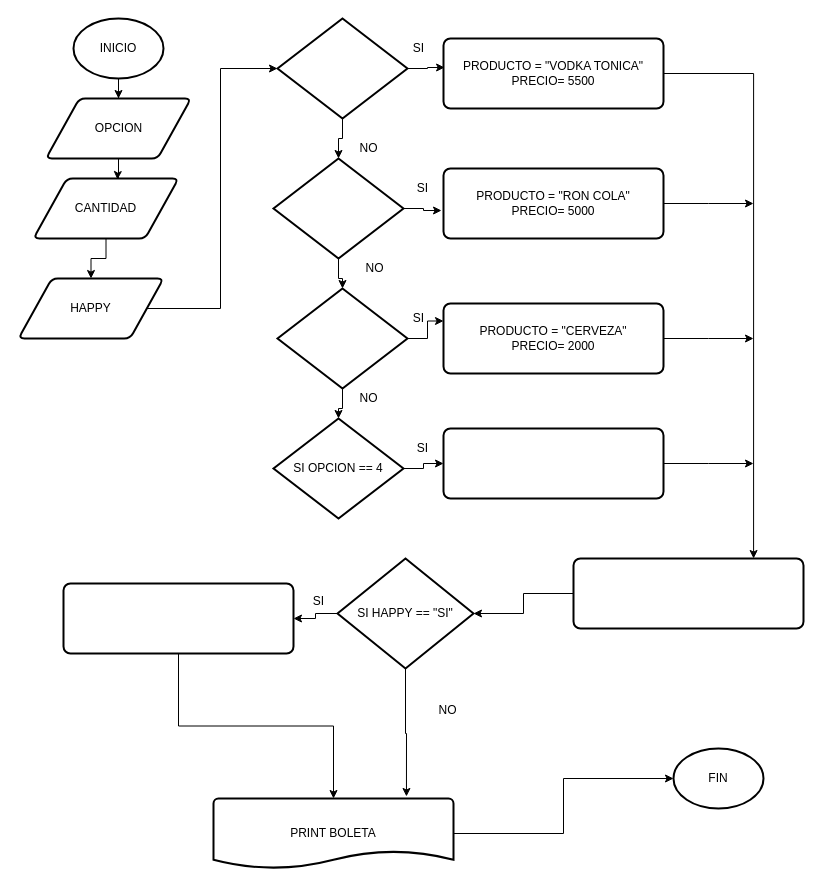
This 821x886 diagram has some shape labels left out. Here are the shapes that lost their labels. From the top down, the box of each, then its label:
(276, 17, 408, 119): SI OPCION == 1
(272, 157, 404, 259): SI OPCION == 2
(276, 287, 408, 389): SI OPCION == 3
(442, 427, 664, 499): PRODUCTO = "BEBIDA" PRECIO= 1500
(572, 557, 804, 629): TOTAL = PRECIO * CANTIDAD
(62, 582, 294, 654): TOTAL = TOTAL / 2
